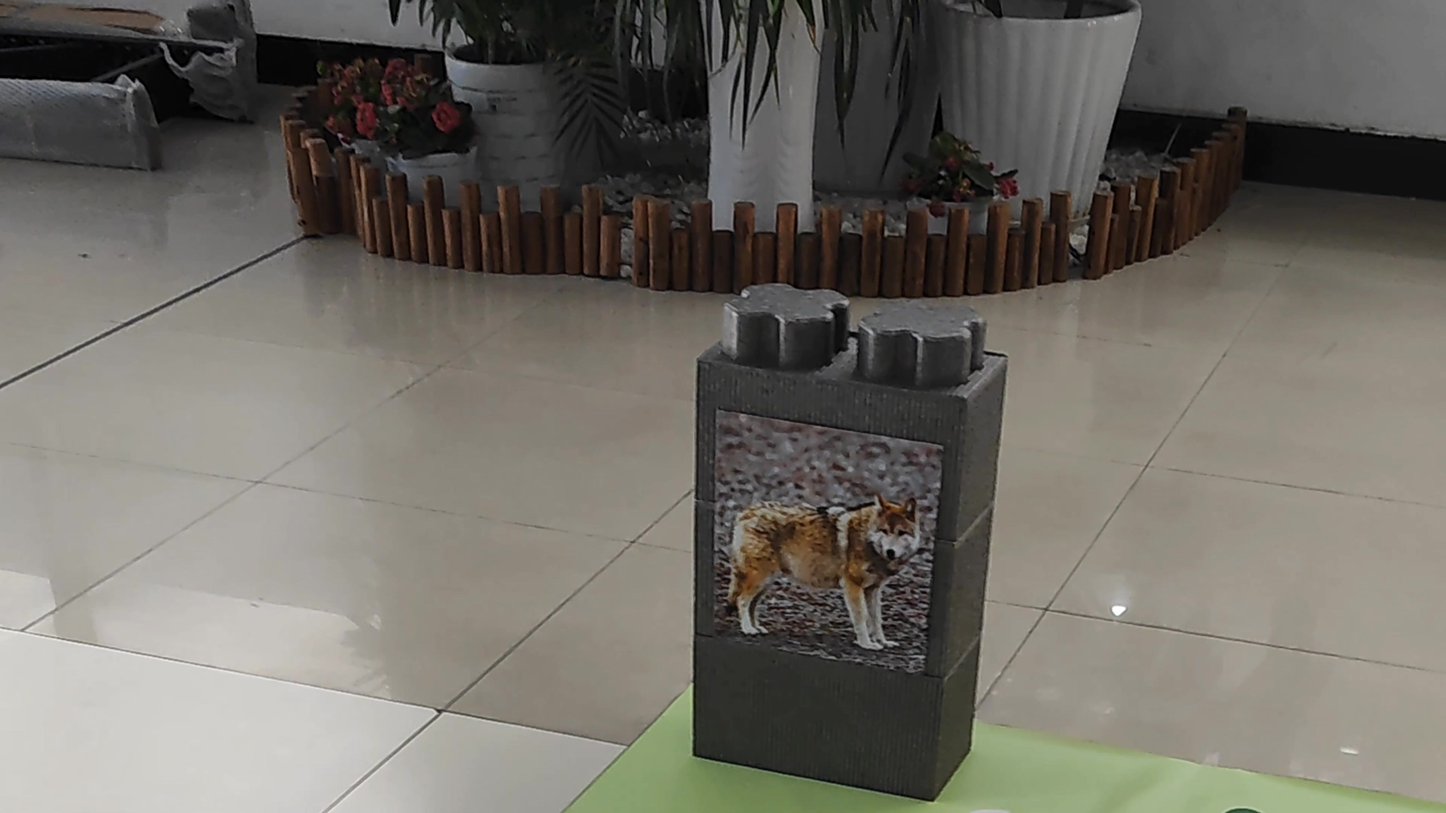wolf: (709, 432, 931, 652)
